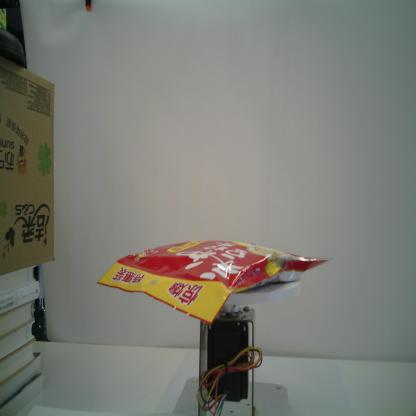Instant Drink: (93, 238, 333, 326)
